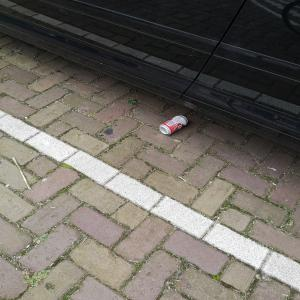Can: (156, 114, 194, 140)
